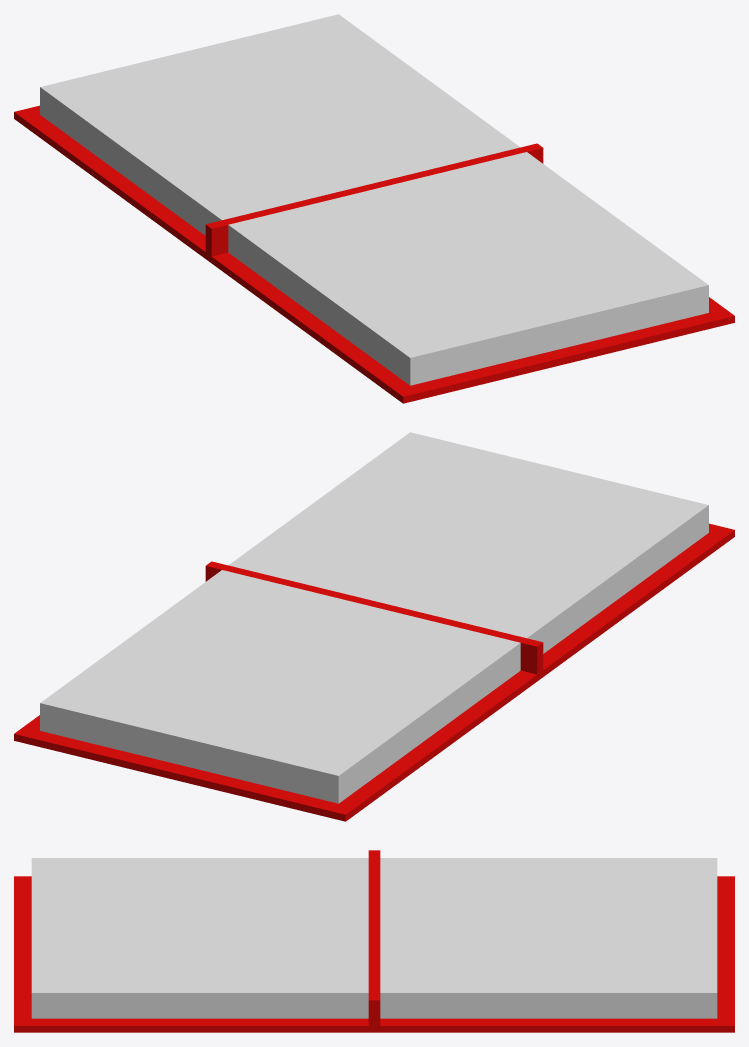
File: Console.fbx
3 renders of one model, top to bottom at view 1: azimuth 30°, elevation 25°; view 2: azimuth 150°, elevation 25°; view 3: azimuth 270°, elevation 25°, orthographic. The views are drawn at different scales.
Visible parts, largest first — view 1: PDFile.002, PDFile.001; view 2: PDFile.001, PDFile.002; view 3: PDFile.001, PDFile.002.
Part boxes in pixels (left/top/right/bottom): PDFile.002: left=206, top=143, right=734, bottom=403; PDFile.001: left=14, top=14, right=536, bottom=261; PDFile.001: left=14, top=565, right=542, bottom=821; PDFile.002: left=206, top=432, right=734, bottom=680; PDFile.001: left=369, top=850, right=734, bottom=1032; PDFile.002: left=14, top=850, right=379, bottom=1032.
Size of the model in its own units: 100 by 10 by 203.
